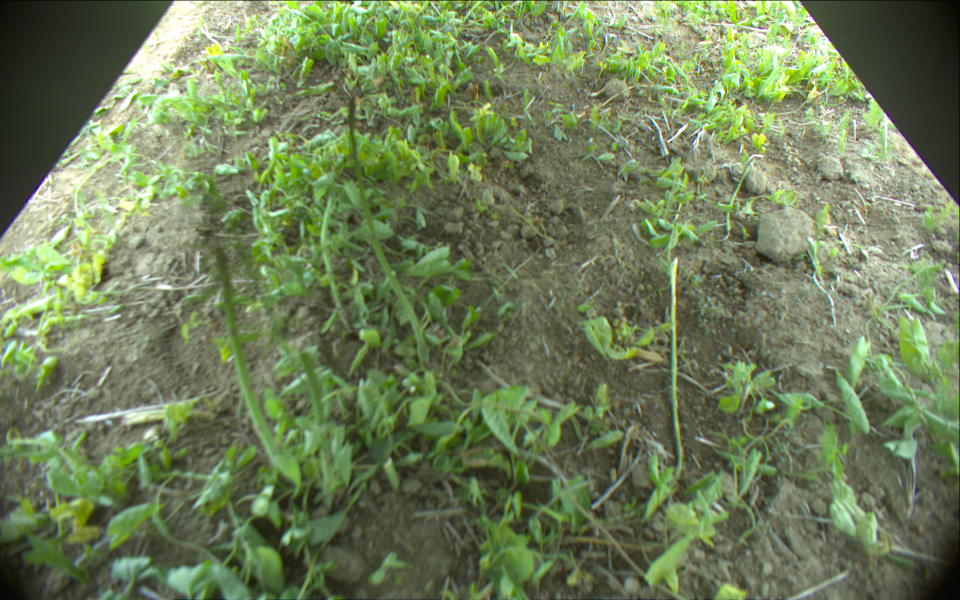aspa: (347, 93, 430, 371), (215, 247, 281, 471), (320, 195, 350, 329), (667, 255, 683, 480), (300, 350, 326, 432)
